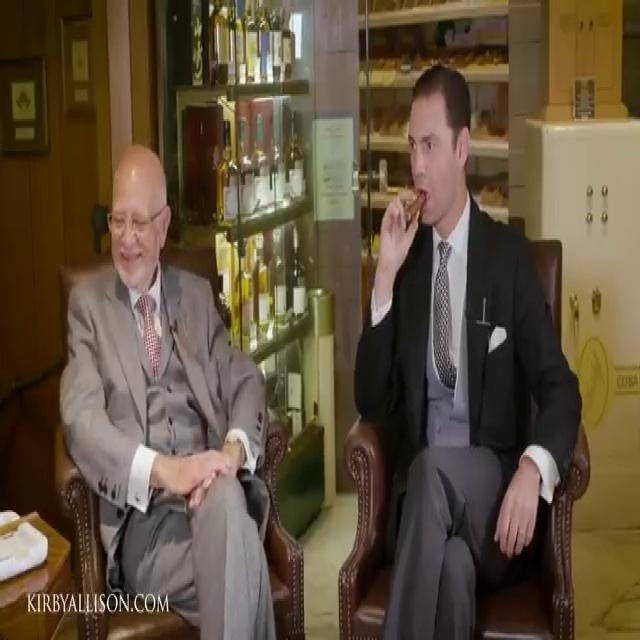Smooking: (400, 187, 430, 230)
